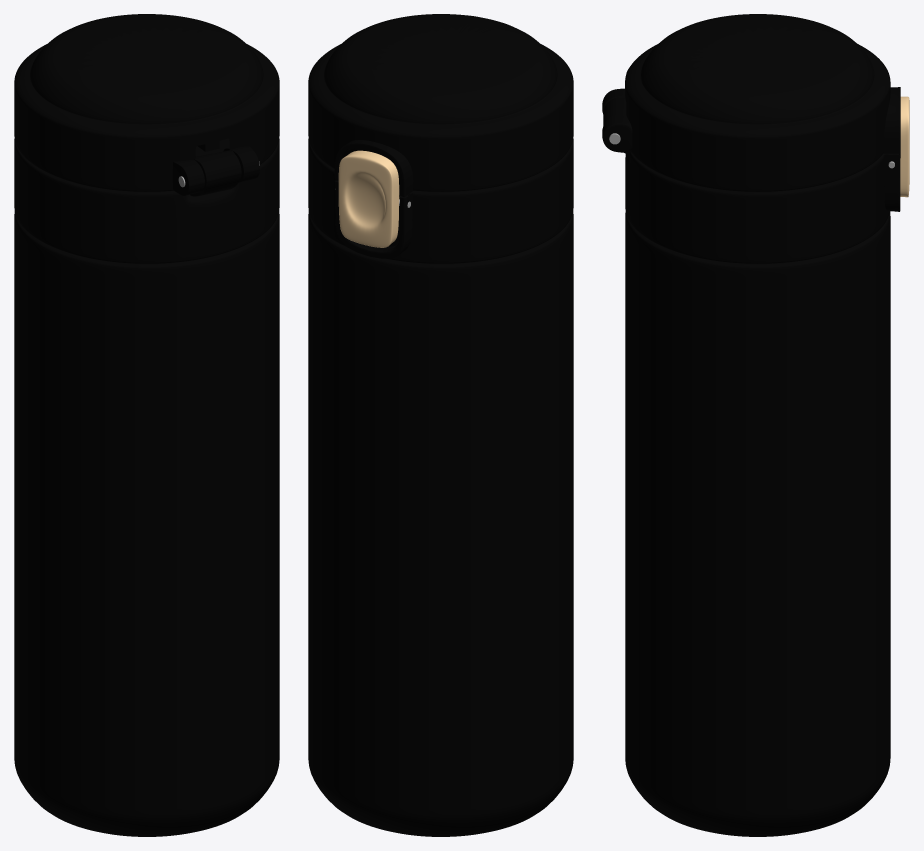
File: tumbler_black.glb
The picture shows the model from 3 angles, left to right: view 1: azimuth 30°, elevation 25°; view 2: azimuth 150°, elevation 25°; view 3: azimuth 270°, elevation 25°; orthographic projection.
Parts seen in each view (by area): view 1: Cylinder.016_0, Cylinder.018_2, Cylinder.017_1, Cube.022_7, Cube.020_4, Cube.021_6; view 2: Cylinder.016_0, Cylinder.018_2, Cylinder.017_1, Cube.024_9, Cube.019_3; view 3: Cylinder.016_0, Cylinder.018_2, Cylinder.017_1, Cube.024_9, Cube.019_3, Cube.021_6.
Part boxes in pixels (x1,y1,x2,y2): Cylinder.016_0: (14,211,279,836); Cylinder.018_2: (14,14,279,191); Cylinder.017_1: (14,138,279,263); Cube.022_7: (190,150,241,196); Cube.020_4: (172,159,204,195); Cube.021_6: (223,146,259,182); Cylinder.016_0: (308,211,573,836); Cylinder.018_2: (308,14,573,191); Cylinder.017_1: (308,139,573,263); Cube.024_9: (338,150,399,247); Cube.019_3: (334,140,413,197); Cylinder.016_0: (625,211,890,836); Cylinder.018_2: (625,14,890,191); Cylinder.017_1: (625,152,900,263); Cube.024_9: (900,96,909,197); Cube.019_3: (883,87,900,153); Cube.021_6: (602,115,632,152).
Size of the model in its own units: 0.1753 by 0.5417 by 0.203.
